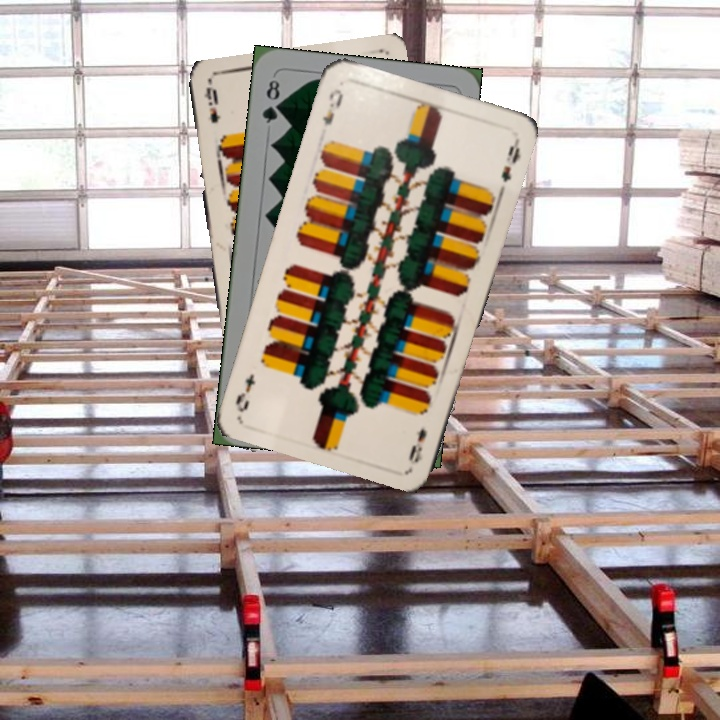E9: (318, 85, 346, 128), (404, 424, 430, 465), (200, 82, 222, 126)
G8: (258, 75, 283, 126)
